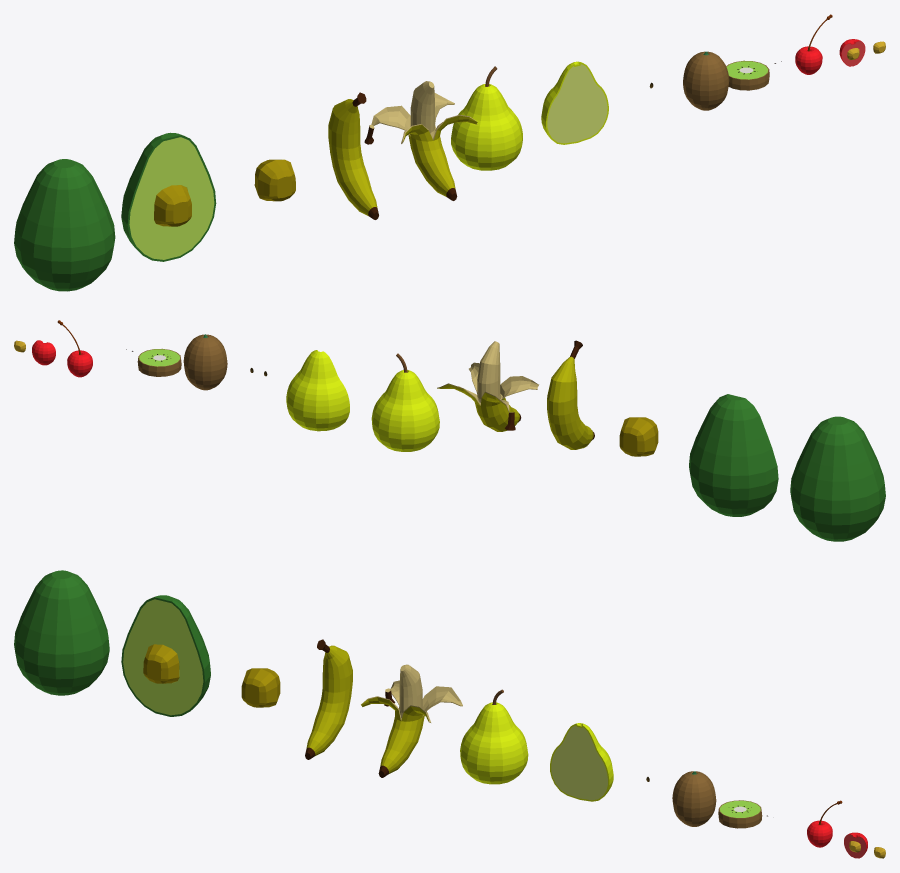
Rendered from fruits.fbx.
The picture shows the model from 3 angles, top to bottom: view 1: azimuth 30°, elevation 25°; view 2: azimuth 150°, elevation 25°; view 3: azimuth 330°, elevation 25°; orthographic projection. The views are drawn at different scales.
Visible parts, largest first — view 1: Whole_Avocado, Half_Avocado, Pear_Whole, Pear_Half, Banana, Banana_ Peel, Kiwi, Avocado_Seed_Whole, Avocado_Seed_Half, Kiwi_Piece, Half_Banana, Cherry; view 2: Whole_Avocado, Half_Avocado, Pear_Whole, Pear_Half, Banana, Banana_ Peel, Kiwi, Avocado_Seed_Whole, Kiwi_Piece, Half_Banana, Cherry, Half_Cherry; view 3: Whole_Avocado, Half_Avocado, Pear_Whole, Pear_Half, Banana, Banana_ Peel, Kiwi, Avocado_Seed_Whole, Avocado_Seed_Half, Kiwi_Piece, Half_Banana.
Part boxes in pixels (x1=…): Whole_Avocado: x1=14, y1=159, x2=115, y2=291; Half_Avocado: x1=121, y1=132, x2=216, y2=261; Pear_Whole: x1=451, y1=84, x2=522, y2=170; Pear_Half: x1=541, y1=61, x2=608, y2=144; Banana: x1=328, y1=92, x2=378, y2=219; Banana_ Peel: x1=364, y1=93, x2=477, y2=200; Kiwi: x1=683, y1=51, x2=729, y2=110; Avocado_Seed_Whole: x1=254, y1=159, x2=295, y2=201; Avocado_Seed_Half: x1=154, y1=185, x2=191, y2=226; Kiwi_Piece: x1=726, y1=60, x2=769, y2=90; Half_Banana: x1=410, y1=81, x2=434, y2=132; Cherry: x1=795, y1=46, x2=822, y2=74; Whole_Avocado: x1=790, y1=416, x2=885, y2=541; Half_Avocado: x1=689, y1=394, x2=778, y2=516; Pear_Whole: x1=371, y1=370, x2=439, y2=451; Pear_Half: x1=286, y1=350, x2=349, y2=431; Banana: x1=547, y1=340, x2=594, y2=449; Banana_ Peel: x1=437, y1=362, x2=538, y2=431; Kiwi: x1=183, y1=334, x2=227, y2=390; Avocado_Seed_Whole: x1=619, y1=417, x2=658, y2=456; Kiwi_Piece: x1=137, y1=348, x2=181, y2=376; Half_Banana: x1=477, y1=341, x2=500, y2=399; Cherry: x1=67, y1=350, x2=92, y2=377; Half_Cherry: x1=32, y1=340, x2=55, y2=365; Whole_Avocado: x1=14, y1=570, x2=109, y2=695; Half_Avocado: x1=121, y1=595, x2=210, y2=716; Pear_Whole: x1=460, y1=702, x2=528, y2=784; Pear_Half: x1=550, y1=723, x2=613, y2=801; Banana: x1=305, y1=639, x2=352, y2=759; Banana_ Peel: x1=361, y1=680, x2=462, y2=777; Kiwi: x1=672, y1=771, x2=716, y2=826; Avocado_Seed_Whole: x1=241, y1=668, x2=280, y2=707; Avocado_Seed_Half: x1=143, y1=644, x2=179, y2=683; Kiwi_Piece: x1=718, y1=800, x2=762, y2=828; Half_Banana: x1=399, y1=664, x2=422, y2=712.
Bounding box in the file's own units: 128 × 18.01 × 15.4.
